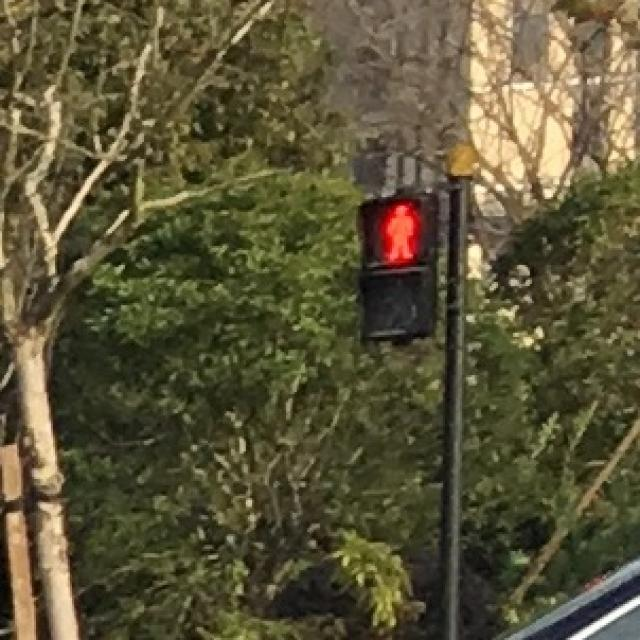red_light: (360, 201, 432, 265)
